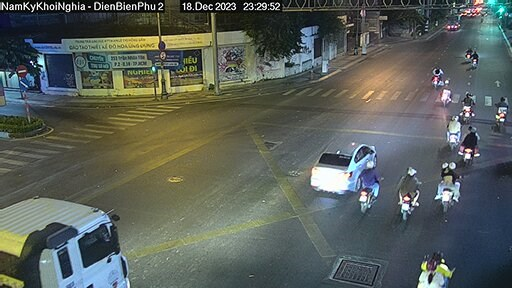car: (298, 131, 386, 198)
motorbike: (394, 165, 425, 217), (353, 162, 379, 213), (440, 162, 461, 210), (463, 128, 488, 168), (444, 113, 467, 150)
truck: (3, 184, 155, 287)
